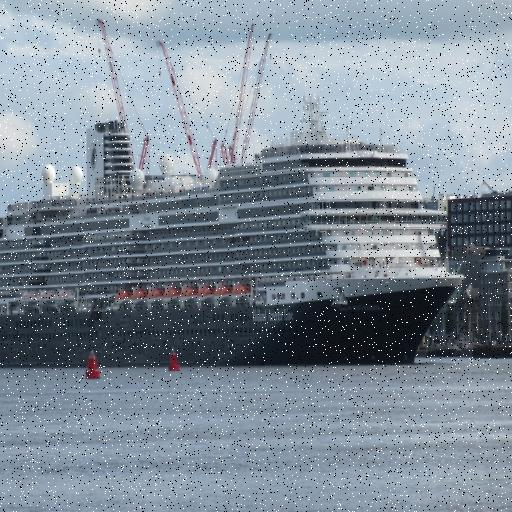cruises: (1, 92, 476, 382)
